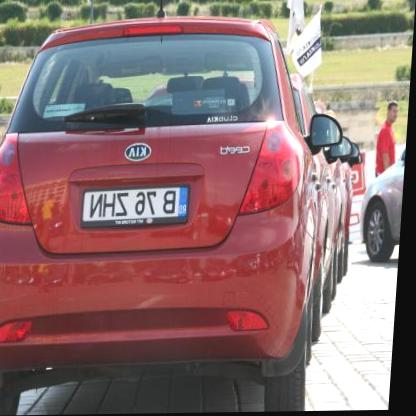License_Plate: (80, 185, 190, 229)
